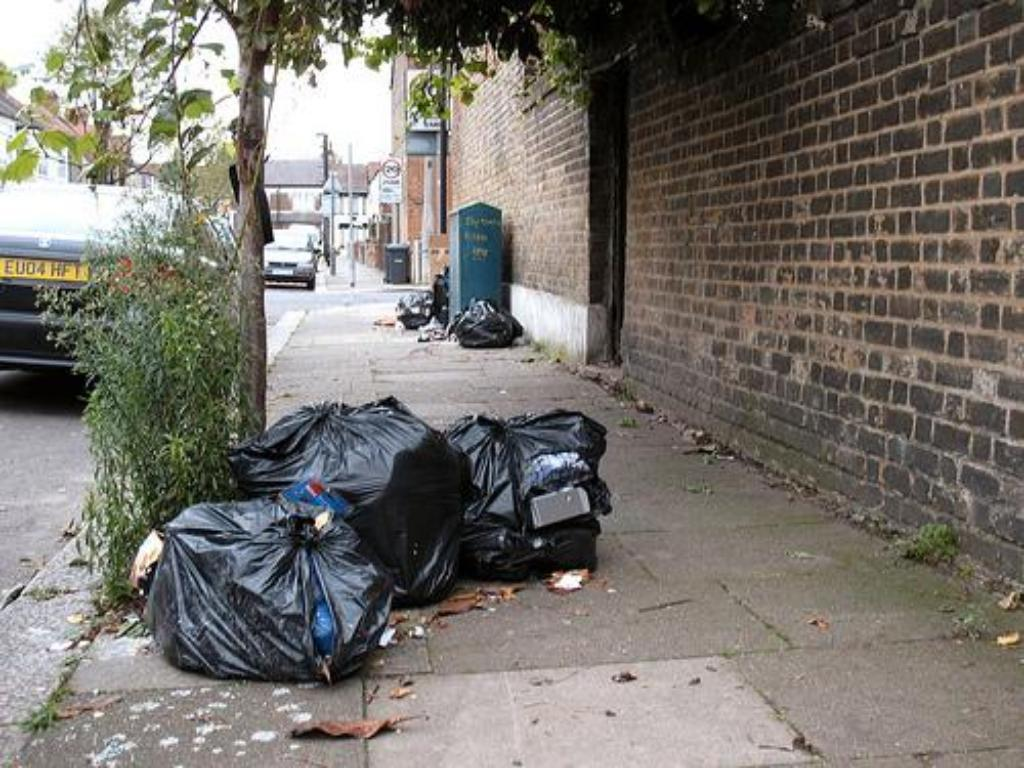dustbin: (435, 197, 519, 317), (374, 236, 420, 292)
